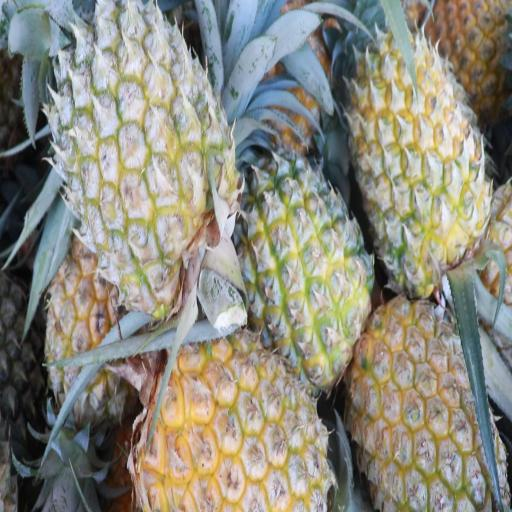------------------------------: (54, 4, 234, 292), (240, 155, 375, 379), (39, 224, 136, 422)
Pineapple - v8 v1: (134, 332, 332, 512), (351, 30, 493, 279), (356, 296, 498, 512)
